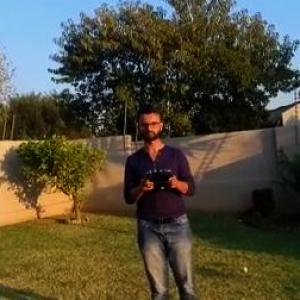follow: (114, 100, 204, 299)
